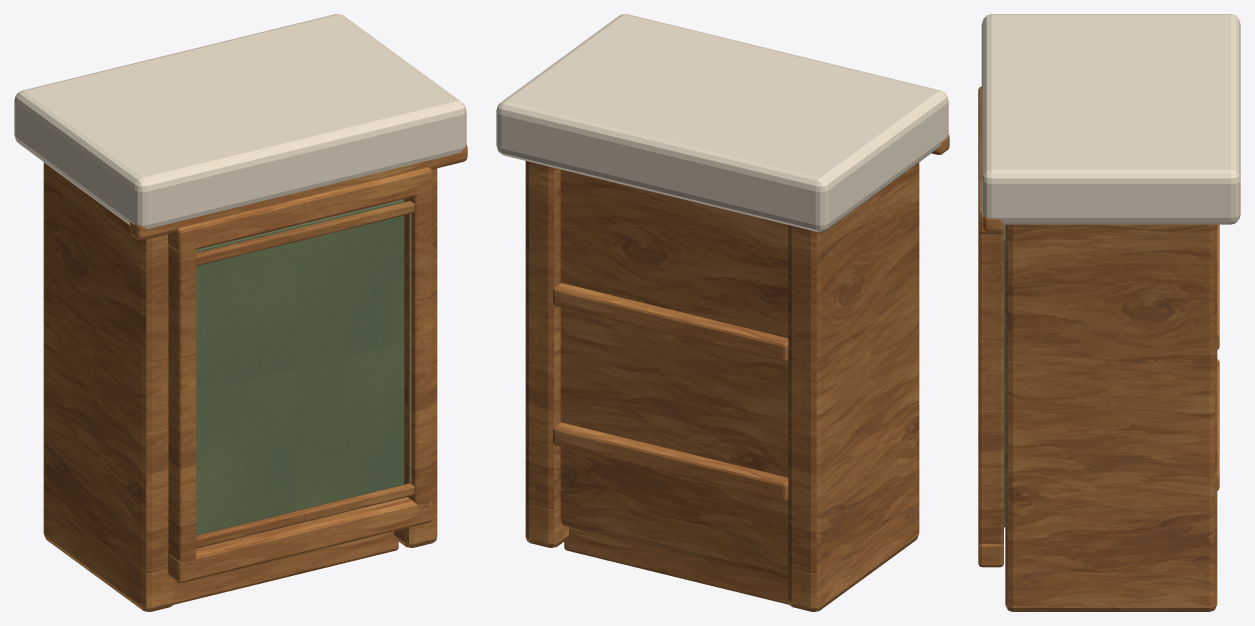
Rendered from WC_CAFE_Counter_End_A.glb.
3 renders of one model, left to right at view 1: azimuth 30°, elevation 25°; view 2: azimuth 150°, elevation 25°; view 3: azimuth 270°, elevation 25°, orthographic.
Visible parts, largest first — view 1: WC_CAFE_Counter_End_A_HeroServiceMesh; view 2: WC_CAFE_Counter_End_A_HeroServiceMesh; view 3: WC_CAFE_Counter_End_A_HeroServiceMesh.
Boxes of the visible parts, x1=… form: WC_CAFE_Counter_End_A_HeroServiceMesh: x1=14, y1=14, x2=467, y2=611; WC_CAFE_Counter_End_A_HeroServiceMesh: x1=496, y1=14, x2=949, y2=611; WC_CAFE_Counter_End_A_HeroServiceMesh: x1=978, y1=14, x2=1240, y2=611.
Bounding box in the file's own units: 0.82 × 1.08 × 0.5575.
Materials: 6 (4 with a texture image).
